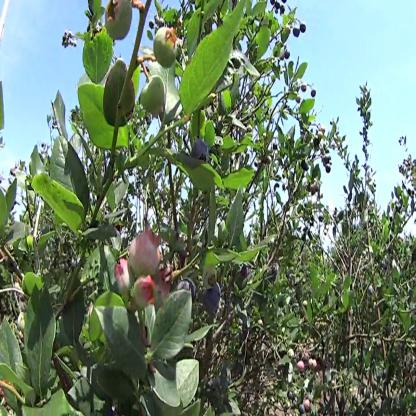intermediate: (129, 225, 162, 276), (133, 270, 159, 310), (116, 260, 135, 296), (308, 358, 318, 374), (304, 395, 313, 412), (298, 362, 308, 374)
mature: (190, 138, 211, 167), (203, 288, 223, 314)
young: (154, 25, 180, 71), (106, 1, 135, 42), (17, 309, 27, 331), (287, 347, 297, 362)
